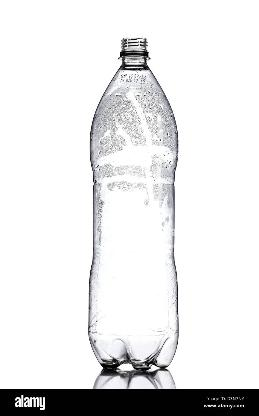Plastic Bottle: (88, 37, 178, 371)
